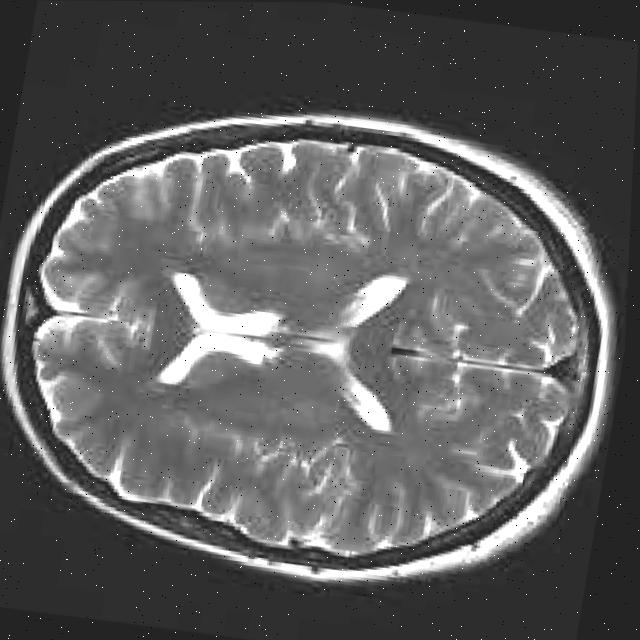NoTumor: (0, 63, 637, 617)
